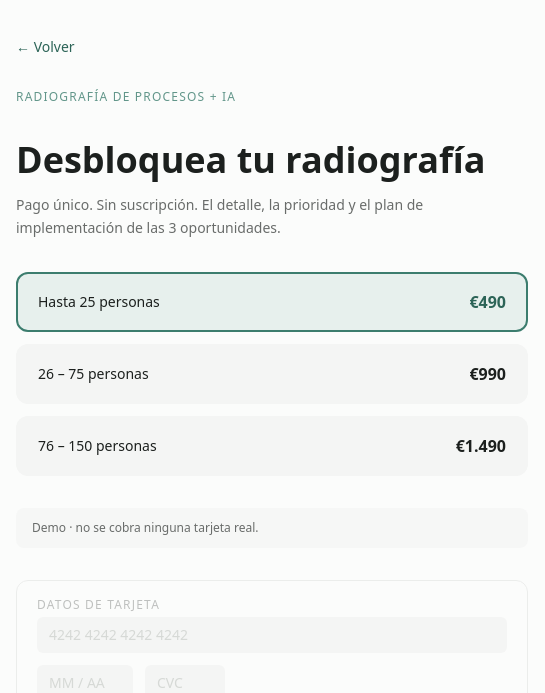
Test case: tier selection › clicking €990 tier updates the CTA to 'Pagar €990'
The width and height of the screenshot is (545, 693).
Click the text "€990": point(488, 374) [469,362,506,386]
(page scrolled)
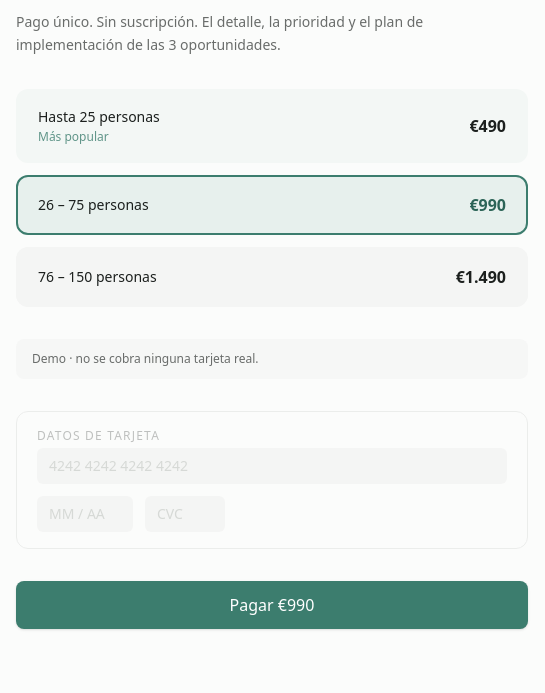
Expected: the button "Pagar €990" is shown, [16,580,528,628]
